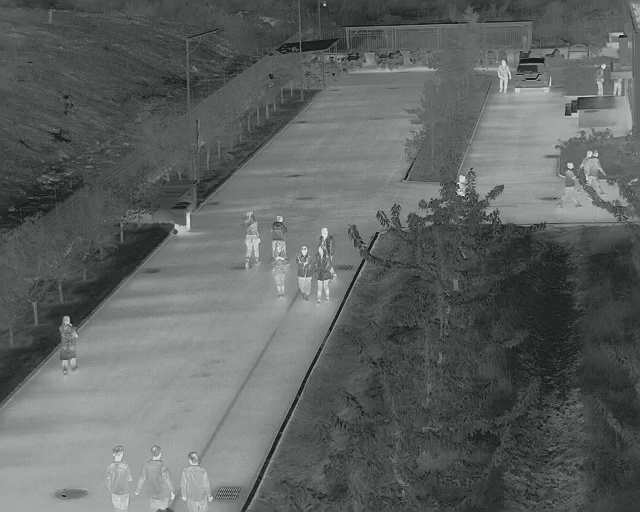person: (134, 446, 176, 512), (180, 451, 215, 512), (105, 444, 134, 512), (57, 314, 80, 381), (241, 209, 263, 273), (312, 244, 334, 304), (556, 161, 583, 209), (270, 242, 290, 301), (295, 244, 315, 303), (587, 149, 608, 198), (268, 214, 289, 256), (496, 58, 513, 96), (593, 61, 608, 97)
vehicle: (512, 55, 552, 94)
